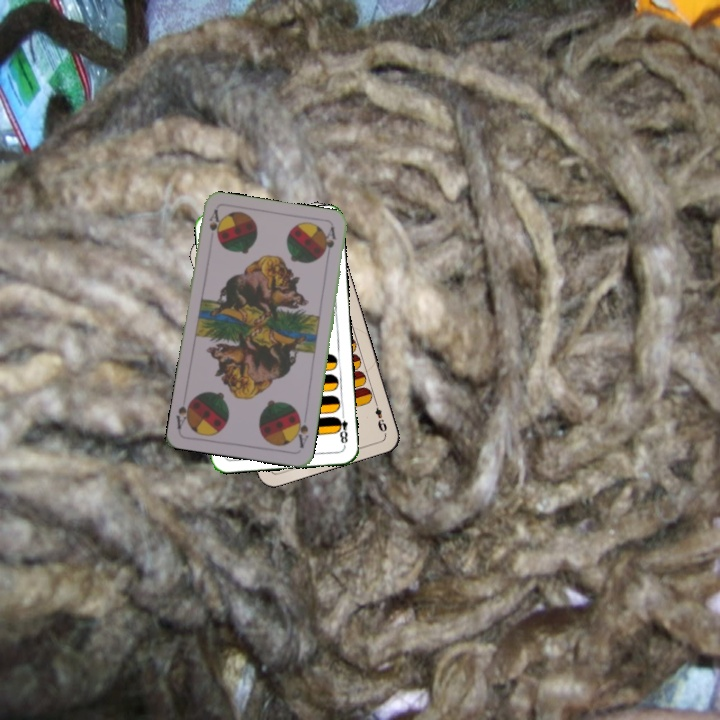E8: (332, 408, 350, 449)
E9: (370, 396, 389, 435)
SA: (291, 410, 311, 451), (205, 206, 223, 242)
